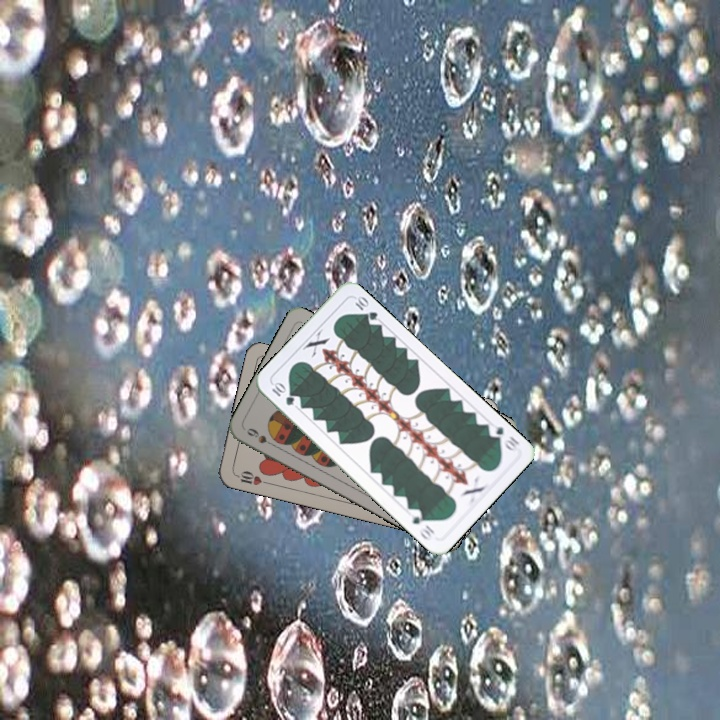G10: (484, 422, 522, 454), (268, 378, 297, 408)
H10: (231, 467, 271, 488)
S9: (243, 424, 281, 450)
